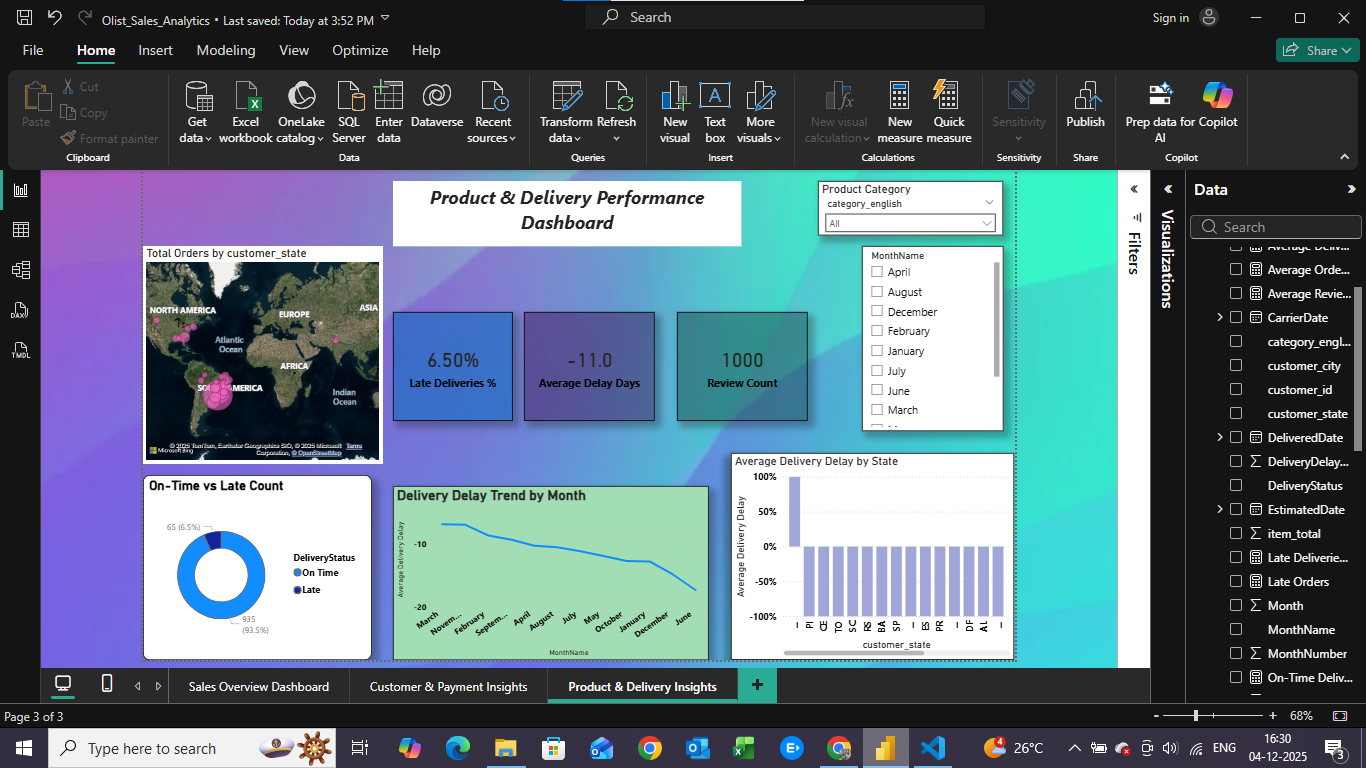

This screenshot's page, from the dashboard's own definition file:
{"tool":"powerbi","page":{"name":"Customer & Payment Insights","canvas":[1280,720],"ordinal":2},"visuals":[{"type":"donutChart","title":"On-Time vs Late Count","fields":{"Category":["vw_sales_summary.DeliveryStatus"],"Y":["vw_sales_summary.Total Orders"]},"box":[0,448,336,272],"z":0},{"type":"hundredPercentStackedColumnChart","title":"Average Delivery Delay by State","fields":{"Category":["vw_sales_summary.customer_state"],"Y":["vw_sales_summary.Average Delivery Delay"]},"box":[864,416,416,304],"z":1000},{"type":"lineChart","title":"Delivery Delay Trend by Month","fields":{"Category":["vw_sales_summary.MonthName"],"Y":["vw_sales_summary.Average Delivery Delay"]},"box":[368,464,464,256],"z":2000},{"type":"map","fields":{"Size":["vw_sales_summary.Total Orders"],"Category":["vw_sales_summary.customer_state"]},"box":[0,112,352,320],"z":2001},{"type":"card","fields":{"Values":["vw_sales_summary.Late Deliveries %"]},"box":[368,208,176,160],"z":2002},{"type":"card","fields":{"Values":["vw_sales_summary.Average Delay Days"]},"box":[560,208,192,160],"z":2003},{"type":"card","fields":{"Values":["vw_sales_summary.Review Count"]},"box":[784,208,192,160],"z":2004},{"type":"slicer","fields":{"Values":["vw_sales_summary.MonthName"]},"box":[1056,112,208,272],"z":2005},{"type":"slicer","title":"Product Category","fields":{"Values":["vw_sales_summary.category_english"]},"box":[992,16,272,80],"z":2006},{"type":"textbox","box":[368,16,512,96],"z":2007}]}

Visuals, with their boxes on the page's 1280x720 design canvas (x1, y1, x2, y2). These are canvas units, not pixel positions in the 1366x768 screenshot, which may show the page scaled, cropped or inside an application window:
"On-Time vs Late Count" donutChart: (0,448,336,720)
"Average Delivery Delay by State" hundredPercentStackedColumnChart: (864,416,1280,720)
"Delivery Delay Trend by Month" lineChart: (368,464,832,720)
map - vw_sales_summary.Total Orders x vw_sales_summary.customer_state: (0,112,352,432)
card - vw_sales_summary.Late Deliveries %: (368,208,544,368)
card - vw_sales_summary.Average Delay Days: (560,208,752,368)
card - vw_sales_summary.Review Count: (784,208,976,368)
slicer - vw_sales_summary.MonthName: (1056,112,1264,384)
"Product Category" slicer: (992,16,1264,96)
textbox: (368,16,880,112)
